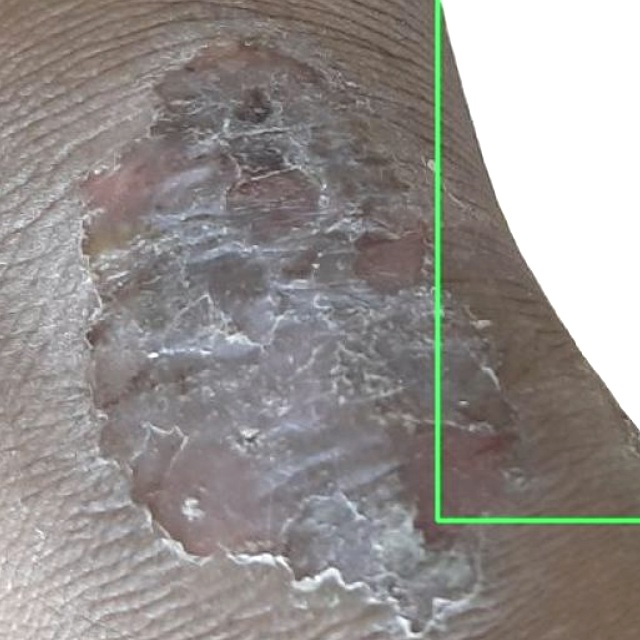Contact Dermatitis: (437, 0, 639, 520)
